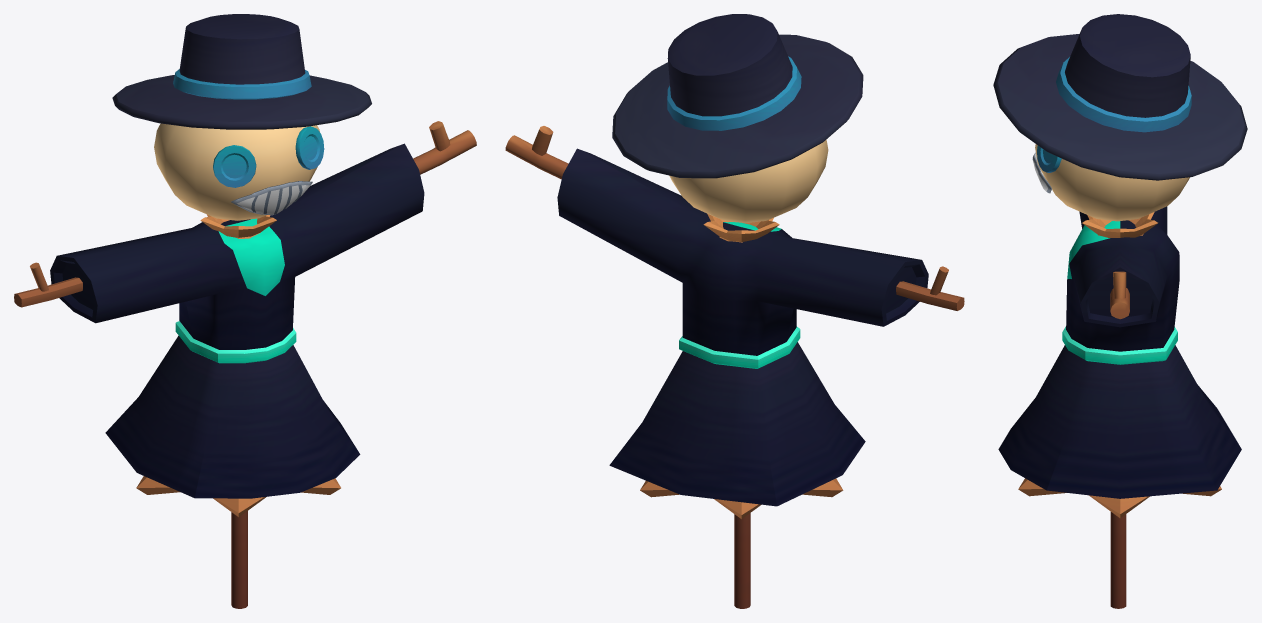
The model's file is Scarecrow.fbx.
3 renders of one model, left to right at view 1: azimuth 30°, elevation 25°; view 2: azimuth 150°, elevation 25°; view 3: azimuth 270°, elevation 25°, orthographic.
Parts seen in each view (by area): view 1: Scarecrow; view 2: Scarecrow; view 3: Scarecrow.
Part boxes in pixels (x1,y1,x2,y2): Scarecrow: [14, 14, 476, 608]; Scarecrow: [505, 14, 964, 608]; Scarecrow: [993, 14, 1247, 608].
Size of the model in its own units: 9.42 by 11.51 by 4.58.
